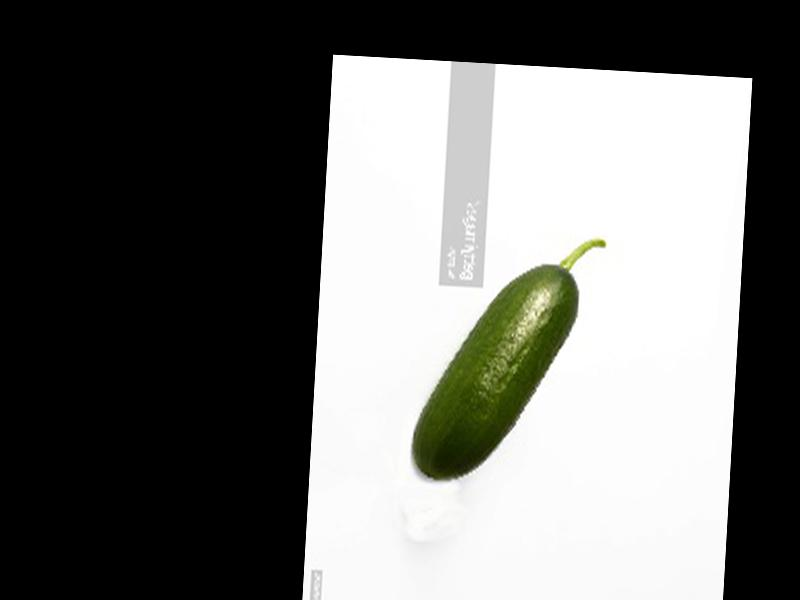Cucumber: (409, 224, 604, 486)
